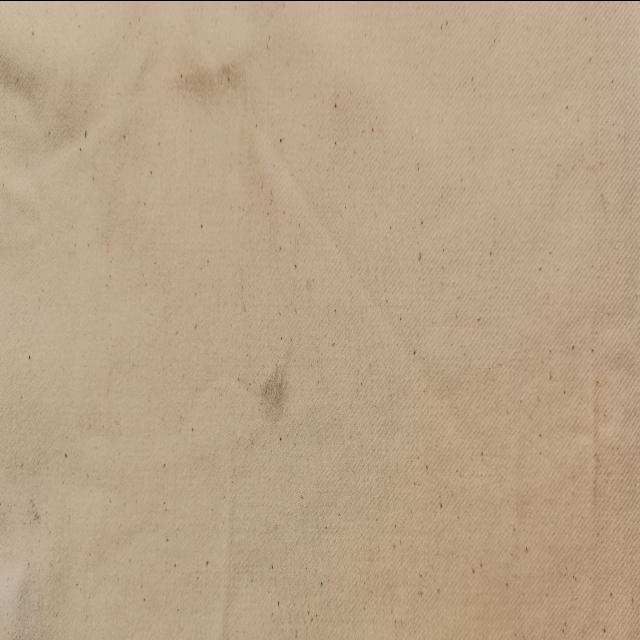taaaches: (166, 50, 250, 114), (256, 350, 296, 440)
